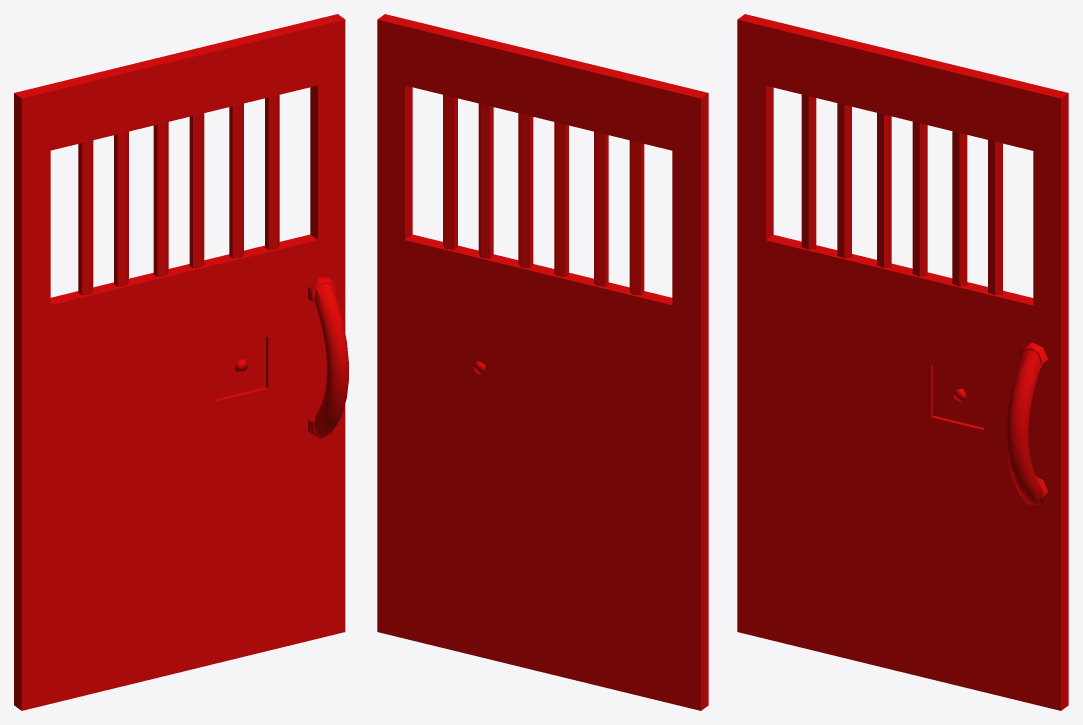
File: Rouya_door01.fbx
The picture shows the model from 3 angles, left to right: view 1: azimuth 30°, elevation 25°; view 2: azimuth 150°, elevation 25°; view 3: azimuth 330°, elevation 25°; orthographic projection.
Parts seen in each view (by area): view 1: Rouya_Door1; view 2: Rouya_Door1; view 3: Rouya_Door1.
Part boxes in pixels (left/top/right/bottom): Rouya_Door1: left=14, top=14, right=348, bottom=710; Rouya_Door1: left=377, top=14, right=708, bottom=710; Rouya_Door1: left=737, top=14, right=1068, bottom=710.
Size of the model in its own units: 10.96 by 19.81 by 1.87.
